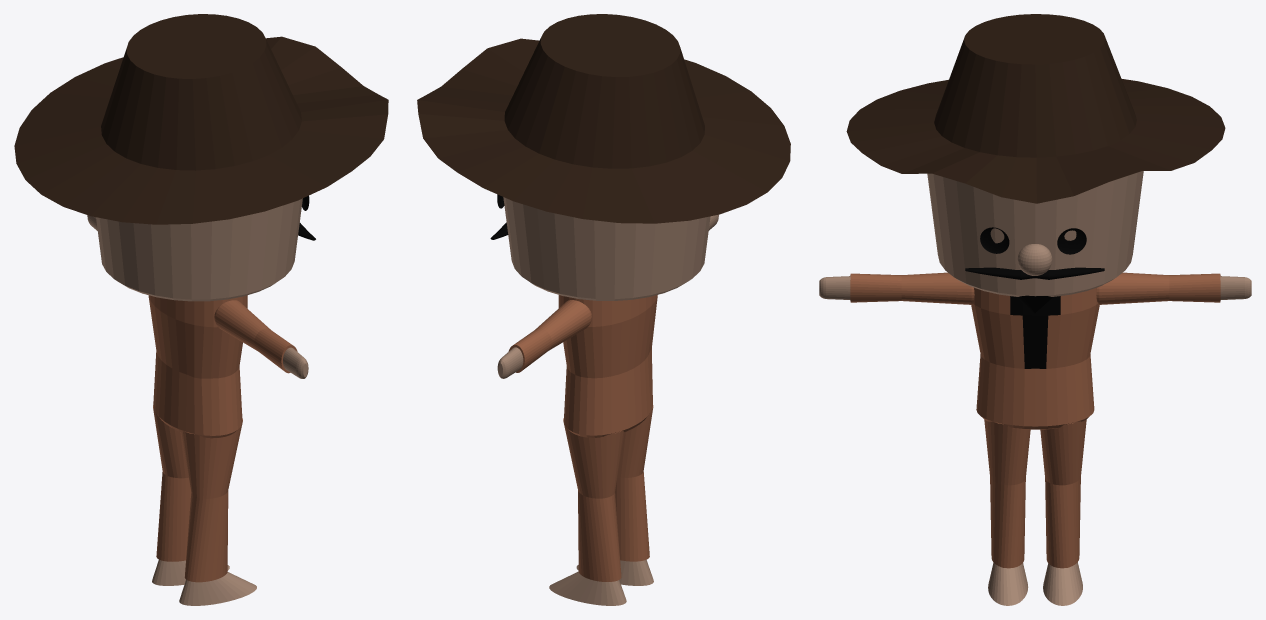
The model's file is peach_goatee_stenston.fbx.
3 views of the same model, side by side, from view 1: azimuth 30°, elevation 25°; view 2: azimuth 150°, elevation 25°; view 3: azimuth 270°, elevation 25° (orthographic).
Parts seen in each view (by area): view 1: Cylinder.015, Headd.002, Cylinder.049, Cylinder.052, Cylinder.053, Cylinder.050, Cylinder.047, Cylinder.038, Cylinder.055; view 2: Cylinder.015, Headd.002, Cylinder.049, Cylinder.053, Cylinder.052, Cylinder.051, Cylinder.038, Cylinder.047, Cylinder.056; view 3: Cylinder.015, Headd.002, Cylinder.049, Cylinder.053, Cylinder.052, Cylinder.051, Cylinder.050, Cylinder.047, Cylinder.038, Cylinder.014, Eyes.007, Sphere.002 (+2 smaller).
Boxes of the visible parts, <box> form: Cylinder.015: <box>14,14,388,224</box>; Headd.002: <box>96,198,302,301</box>; Cylinder.049: <box>148,295,247,438</box>; Cylinder.052: <box>181,418,242,582</box>; Cylinder.053: <box>153,405,191,561</box>; Cylinder.050: <box>214,300,297,373</box>; Cylinder.047: <box>179,572,256,605</box>; Cylinder.038: <box>152,559,229,585</box>; Cylinder.055: <box>283,347,308,378</box>; Cylinder.015: <box>417,14,790,223</box>; Headd.002: <box>503,197,710,300</box>; Cylinder.049: <box>558,295,657,437</box>; Cylinder.053: <box>563,418,624,581</box>; Cylinder.052: <box>615,405,653,561</box>; Cylinder.051: <box>508,300,591,372</box>; Cylinder.038: <box>549,571,626,605</box>; Cylinder.047: <box>576,559,653,585</box>; Cylinder.056: <box>497,347,523,378</box>; Cylinder.015: <box>846,14,1225,203</box>; Headd.002: <box>927,171,1143,296</box>; Cylinder.049: <box>971,287,1099,429</box>; Cylinder.053: <box>1040,419,1086,568</box>; Cylinder.052: <box>984,420,1030,568</box>; Cylinder.051: <box>1096,272,1220,304</box>; Cylinder.050: <box>850,272,974,304</box>; Cylinder.047: <box>988,562,1028,605</box>; Cylinder.038: <box>1043,562,1082,605</box>; Cylinder.014: <box>965,267,1104,279</box>; Eyes.007: <box>980,227,1086,254</box>; Sphere.002: <box>1017,244,1052,275</box>.
Size of the model in its own units: 301 by 484 by 346.
